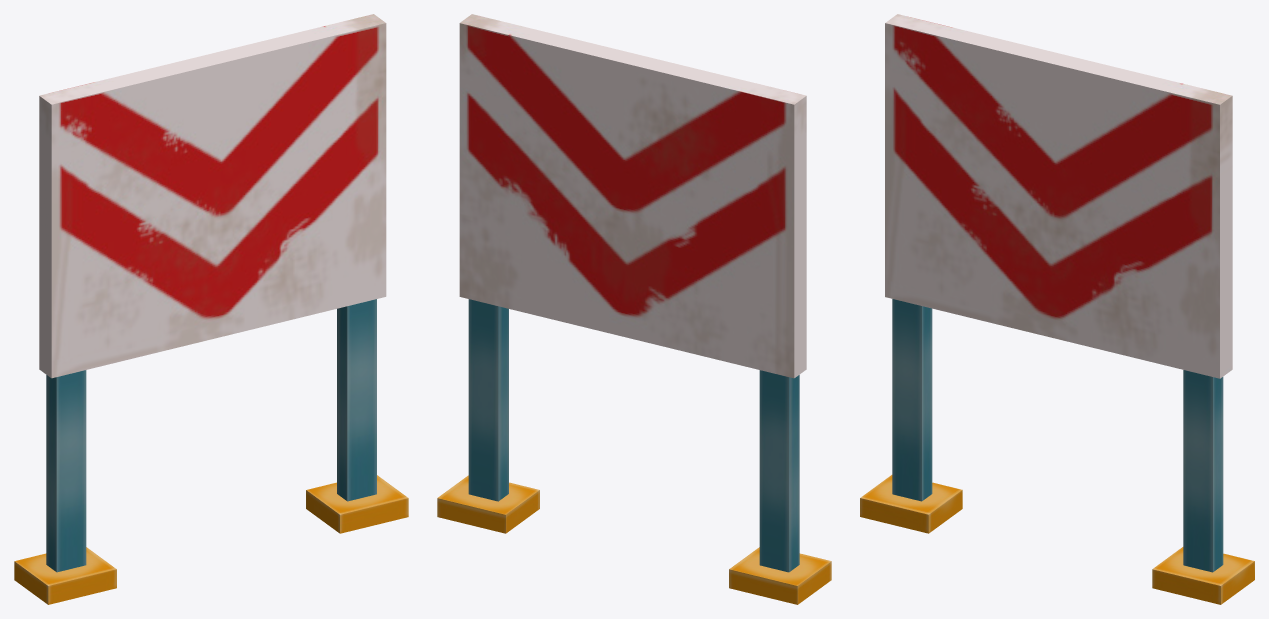
File: slide_down board_01.FBX
The picture shows the model from 3 angles, left to right: view 1: azimuth 30°, elevation 25°; view 2: azimuth 150°, elevation 25°; view 3: azimuth 330°, elevation 25°; orthographic projection.
Parts seen in each view (by area): view 1: SLIDE DOWN_007; view 2: SLIDE DOWN_007; view 3: SLIDE DOWN_007.
Part boxes in pixels (bbox=[...]): SLIDE DOWN_007: bbox=[14, 14, 408, 604]; SLIDE DOWN_007: bbox=[437, 14, 831, 604]; SLIDE DOWN_007: bbox=[860, 14, 1254, 604].
Size of the model in its own units: 142 by 185 by 23.24.
